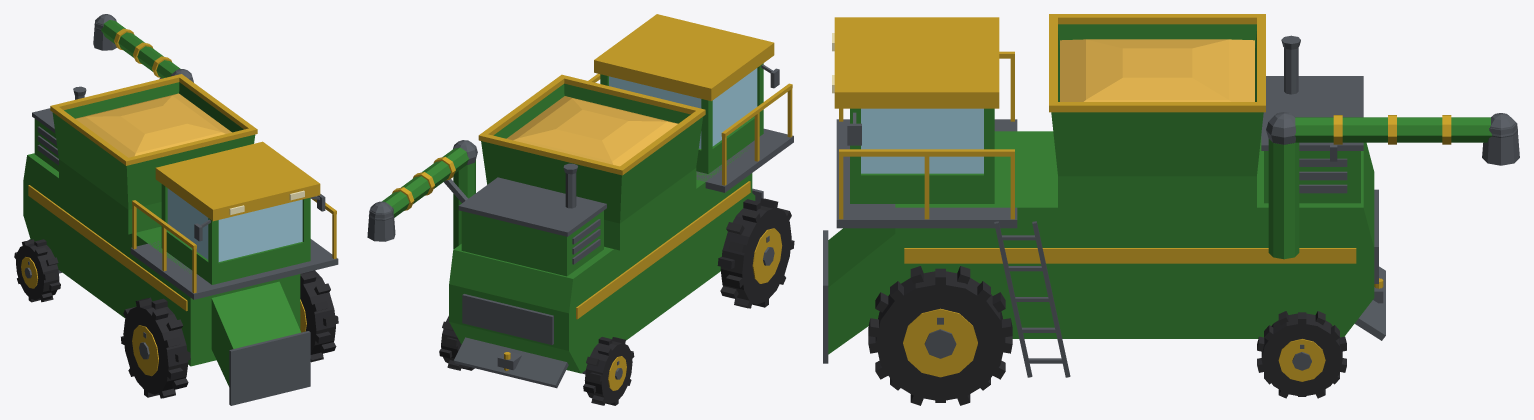
The model's file is combine.glb.
3 renders of one model, left to right at view 1: azimuth 30°, elevation 25°; view 2: azimuth 150°, elevation 25°; view 3: azimuth 270°, elevation 25°, orthographic. The views are drawn at different scales.
Visible parts, largest first — view 1: hull, cab_roof, tank, grain, cab_glass, feeder, feeder_plate, tank_lip, deck, cab_base, tyre_FR, tank_base (+17 smaller); view 2: hull, tank, cab_roof, grain, engine, engine_cap, tank_lip, tyre_FR, cab_glass, spreader, spreader_hood, tank_base (+19 smaller); view 3: hull, tank, cab_roof, grain, tyre_FL, cab_glass, tank_base, stripe_L, feeder, tank_lip, deck, engine_cap (+23 smaller).
Boxes of the visible parts, x1,y1,x2,y2 form: hull: (23, 153, 300, 366); cab_roof: (155, 141, 320, 221); tank: (52, 82, 255, 209); grain: (75, 93, 231, 157); cab_glass: (167, 188, 302, 261); feeder: (211, 281, 300, 386); feeder_plate: (229, 331, 310, 405); tank_lip: (50, 74, 257, 165); deck: (130, 239, 338, 299); cab_base: (161, 228, 310, 284); tyre_FR: (123, 304, 188, 394); tank_base: (59, 159, 161, 234); hull: (449, 147, 752, 373); tank: (481, 83, 702, 223); cab_roof: (594, 14, 774, 101); grain: (506, 96, 677, 166); engine: (461, 210, 603, 276); engine_cap: (458, 177, 606, 236); tank_lip: (478, 74, 705, 175); tyre_FR: (720, 205, 791, 304); cab_glass: (609, 68, 757, 148); spreader: (462, 294, 553, 344); spreader_hood: (454, 337, 568, 388); tank_base: (604, 168, 696, 250); hull: (895, 131, 1374, 338); tank: (1051, 24, 1263, 176); cab_roof: (834, 17, 999, 108); grain: (1060, 39, 1254, 101); tyre_FL: (875, 271, 1005, 401); cab_glass: (861, 108, 983, 173); tank_base: (1058, 176, 1256, 211); stripe_L: (904, 248, 1356, 263); feeder: (828, 228, 895, 354); tank_lip: (1049, 14, 1265, 112); deck: (836, 119, 1017, 228); engine_cap: (1261, 76, 1363, 150).
Size of the model in its own units: 3.15 by 3.6 by 7.71.
